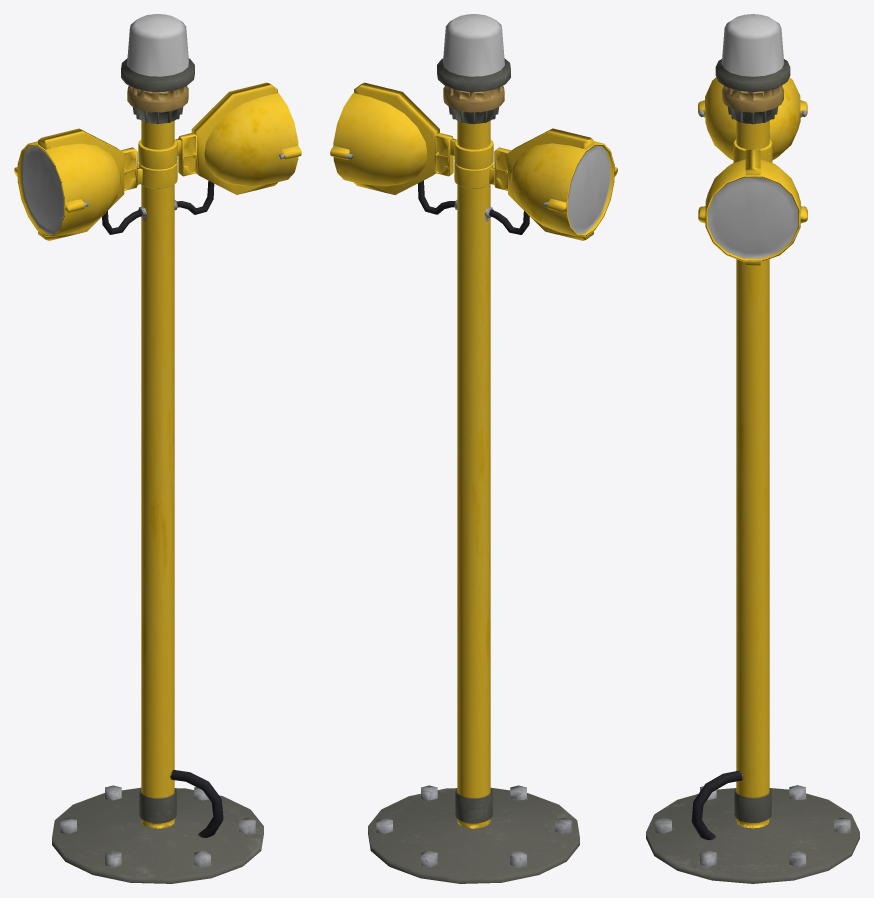
The model's file is anflugfeuersystem_atr_taxiway_hoch.fbx.
The picture shows the model from 3 angles, left to right: view 1: azimuth 30°, elevation 25°; view 2: azimuth 150°, elevation 25°; view 3: azimuth 270°, elevation 25°; orthographic projection.
Visible parts, largest first — view 1: taxiway_atr_hoch_einfach_low, taxiway_atr_hoch_einfach_high, taxiway_atr_hoch_signal_orange_doppelt_high, taxiway_atr_hoch_signal_orange_einfach_high; view 2: taxiway_atr_hoch_einfach_low, taxiway_atr_hoch_einfach_high, taxiway_atr_hoch_signal_orange_doppelt_high, taxiway_atr_hoch_signal_orange_einfach_high; view 3: taxiway_atr_hoch_einfach_low, taxiway_atr_hoch_einfach_high, taxiway_atr_hoch_signal_orange_doppelt_high, taxiway_atr_hoch_signal_orange_einfach_high.
Part boxes in pixels (left/top/right/bottom): taxiway_atr_hoch_einfach_low: left=17, top=121, right=263, bottom=883; taxiway_atr_hoch_einfach_high: left=14, top=122, right=255, bottom=867; taxiway_atr_hoch_signal_orange_doppelt_high: left=138, top=82, right=301, bottom=214; taxiway_atr_hoch_signal_orange_einfach_high: left=121, top=14, right=194, bottom=124; taxiway_atr_hoch_einfach_low: left=368, top=120, right=614, bottom=883; taxiway_atr_hoch_einfach_high: left=376, top=121, right=617, bottom=867; taxiway_atr_hoch_signal_orange_doppelt_high: left=330, top=82, right=493, bottom=214; taxiway_atr_hoch_signal_orange_einfach_high: left=437, top=14, right=510, bottom=124; taxiway_atr_hoch_einfach_low: left=646, top=77, right=859, bottom=883; taxiway_atr_hoch_einfach_high: left=655, top=100, right=850, bottom=866; taxiway_atr_hoch_signal_orange_doppelt_high: left=698, top=139, right=807, bottom=265; taxiway_atr_hoch_signal_orange_einfach_high: left=715, top=14, right=790, bottom=124.
Size of the model in its own units: 37.76 by 127 by 30.
